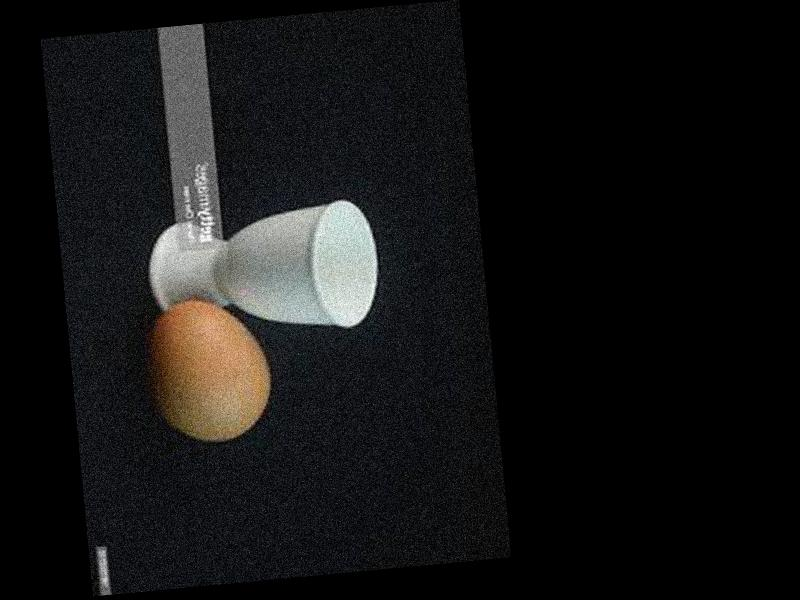Eggs: (148, 292, 275, 444)
